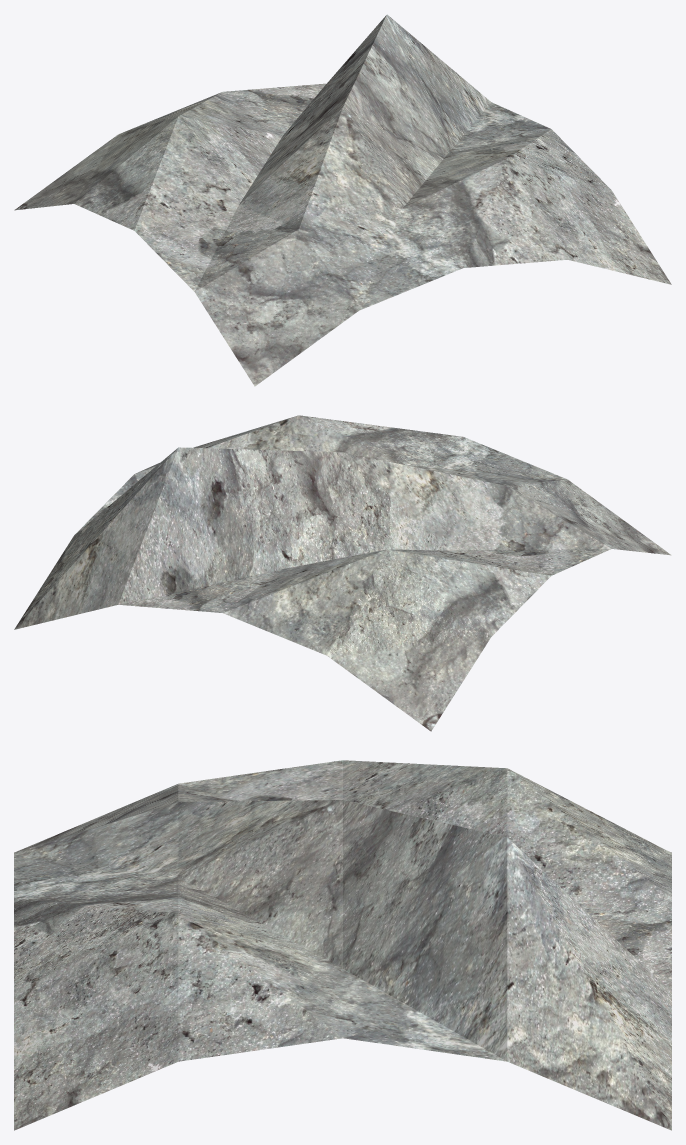
The model's file is rock.obj.
3 views of the same model, one above another, from view 1: azimuth 30°, elevation 25°; view 2: azimuth 150°, elevation 25°; view 3: azimuth 270°, elevation 25° (orthographic). The views are drawn at different scales.
Parts seen in each view (by area): view 1: Plane; view 2: Plane; view 3: Plane.
Part boxes in pixels (x1,y1,x2,y2): Plane: (14, 14, 671, 386); Plane: (14, 415, 671, 731); Plane: (14, 760, 671, 1130).
Bounding box in the file's own units: 2 × 0.7508 × 2.
1 material, 1 textured.
